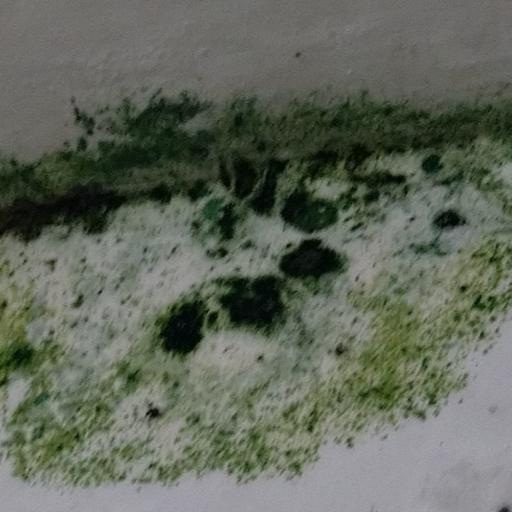algae: (7, 60, 512, 495)
